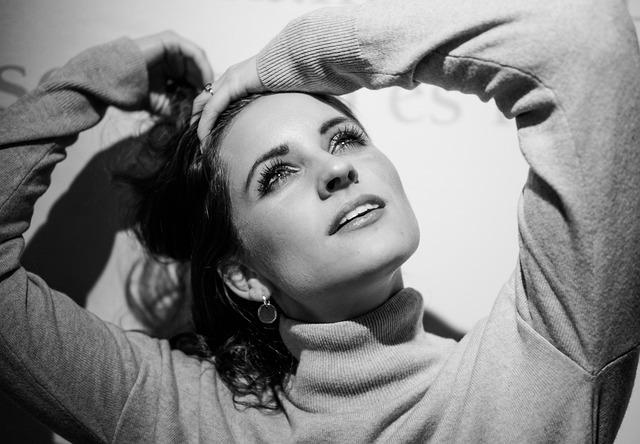Non_Gorille: (0, 29, 629, 444)
